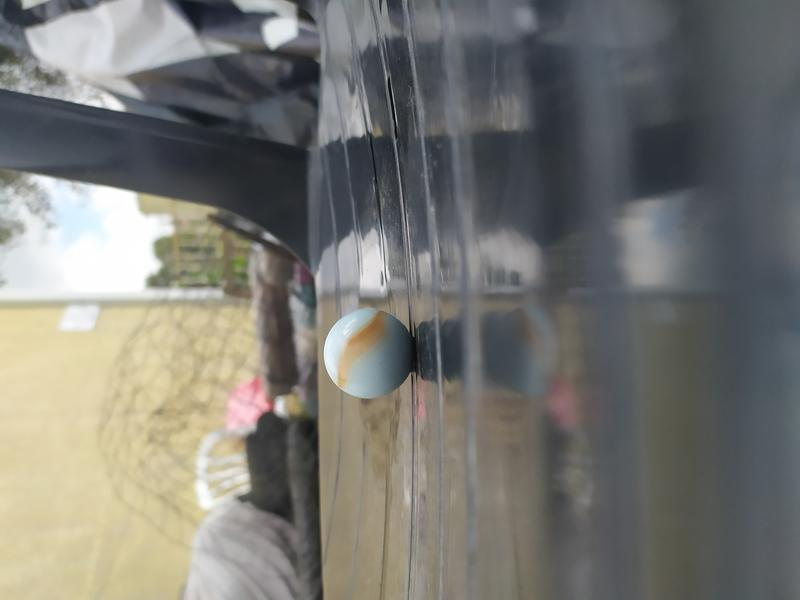Warning: (319, 305, 419, 402)
